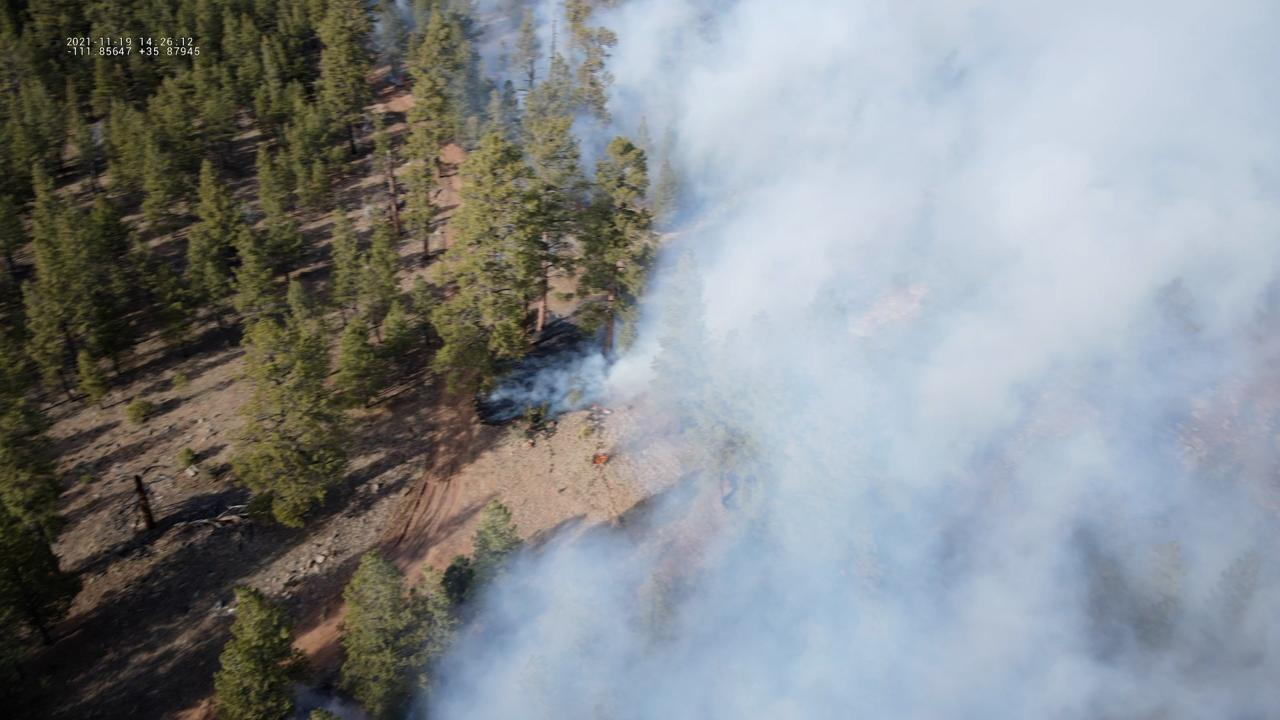fire: (593, 453, 610, 465)
smoke: (361, 0, 1280, 720)
